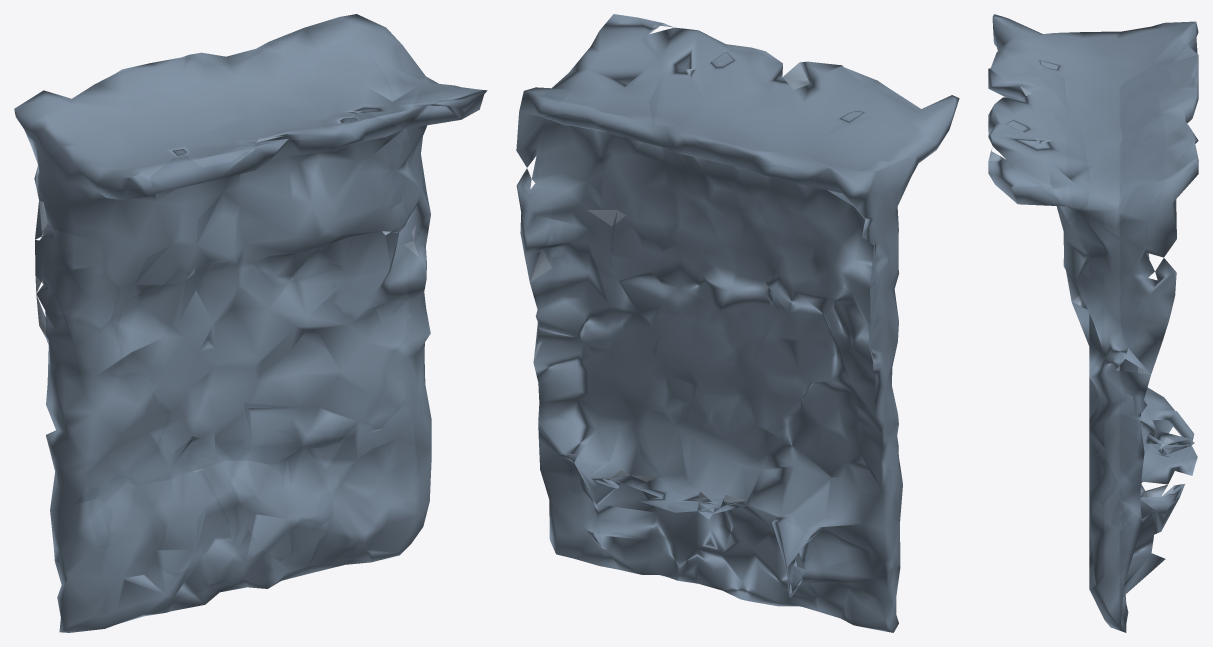
The model's file is bed_0024_original.obj.
3 views of the same model, side by side, from view 1: azimuth 30°, elevation 25°; view 2: azimuth 150°, elevation 25°; view 3: azimuth 270°, elevation 25° (orthographic). The views are drawn at different scales.
Size of the model in its own units: 1.14 by 1.51 by 0.6163.
